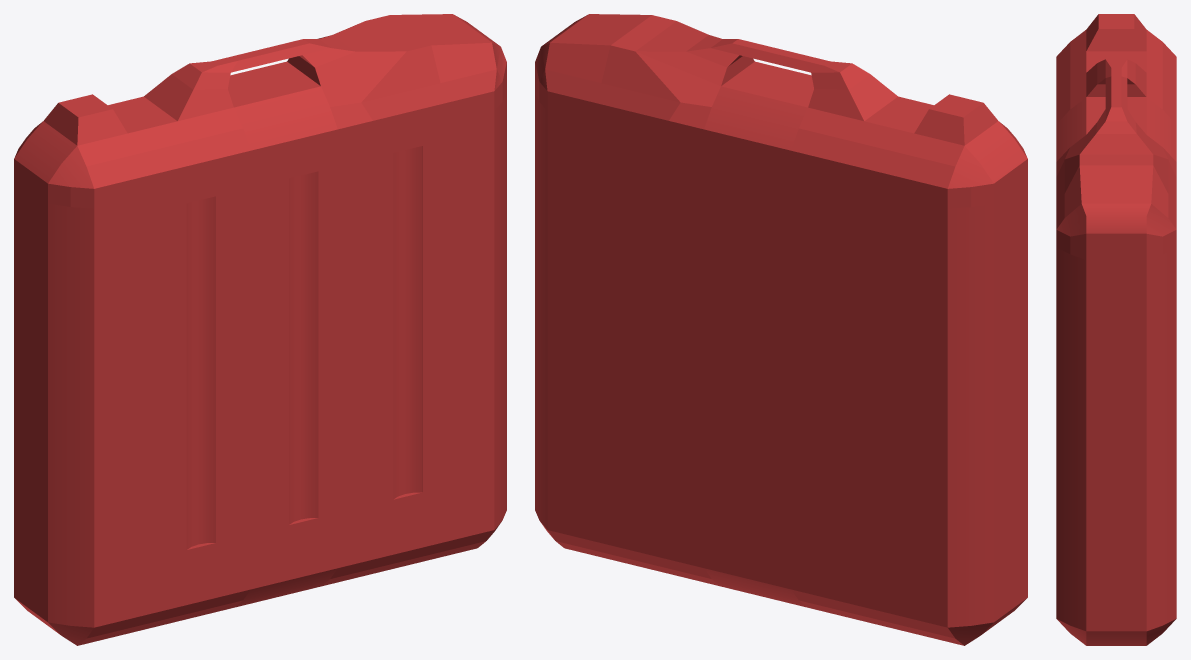
File: PickUp_Gas.fbx
3 renders of one model, left to right at view 1: azimuth 30°, elevation 25°; view 2: azimuth 150°, elevation 25°; view 3: azimuth 270°, elevation 25°, orthographic. The views are drawn at different scales.
Parts seen in each view (by area): view 1: PickUp_GasTank; view 2: PickUp_GasTank; view 3: PickUp_GasTank.
Boxes of the visible parts, box(x1,y1,x2,y2) form: PickUp_GasTank: box(14, 14, 506, 645); PickUp_GasTank: box(535, 14, 1027, 645); PickUp_GasTank: box(1056, 14, 1176, 645).
Size of the model in its own units: 51.01 by 56.57 by 13.05.
